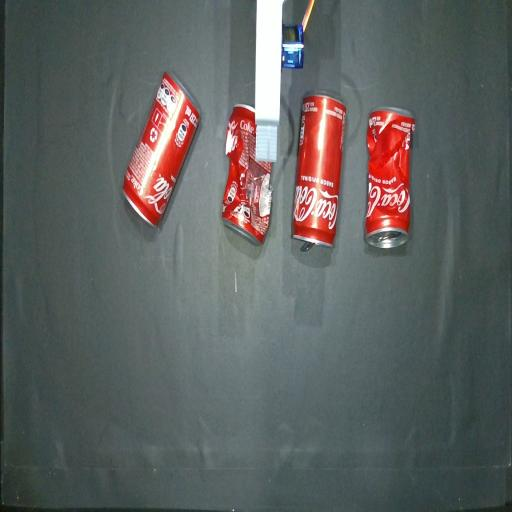lata: (123, 72, 200, 225), (292, 93, 346, 250)
lata_defectuoso: (222, 104, 272, 244), (365, 108, 415, 247)
